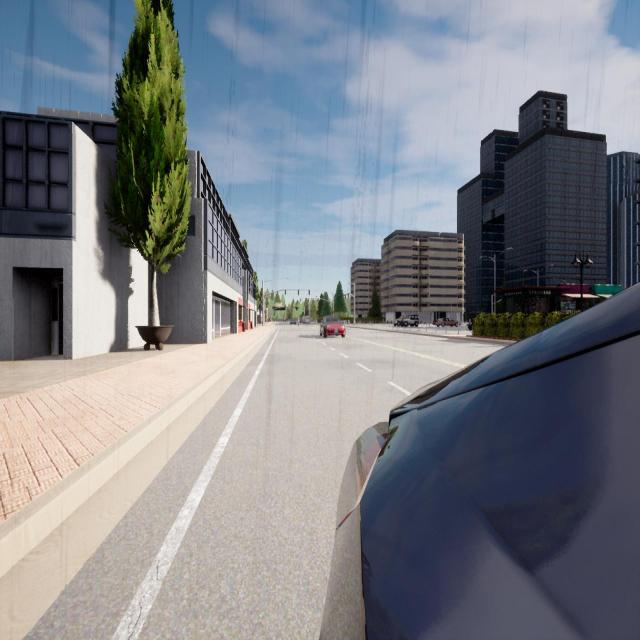Vehicle: (321, 284, 639, 638), (320, 316, 345, 337), (394, 314, 419, 326), (437, 318, 457, 327), (467, 314, 473, 330), (302, 316, 310, 324), (290, 319, 296, 325)
traffic_light: (308, 290, 310, 295), (345, 294, 346, 298), (285, 290, 286, 294), (298, 290, 299, 294), (308, 298, 309, 302), (348, 294, 349, 298), (300, 299, 301, 301), (318, 300, 318, 302)
